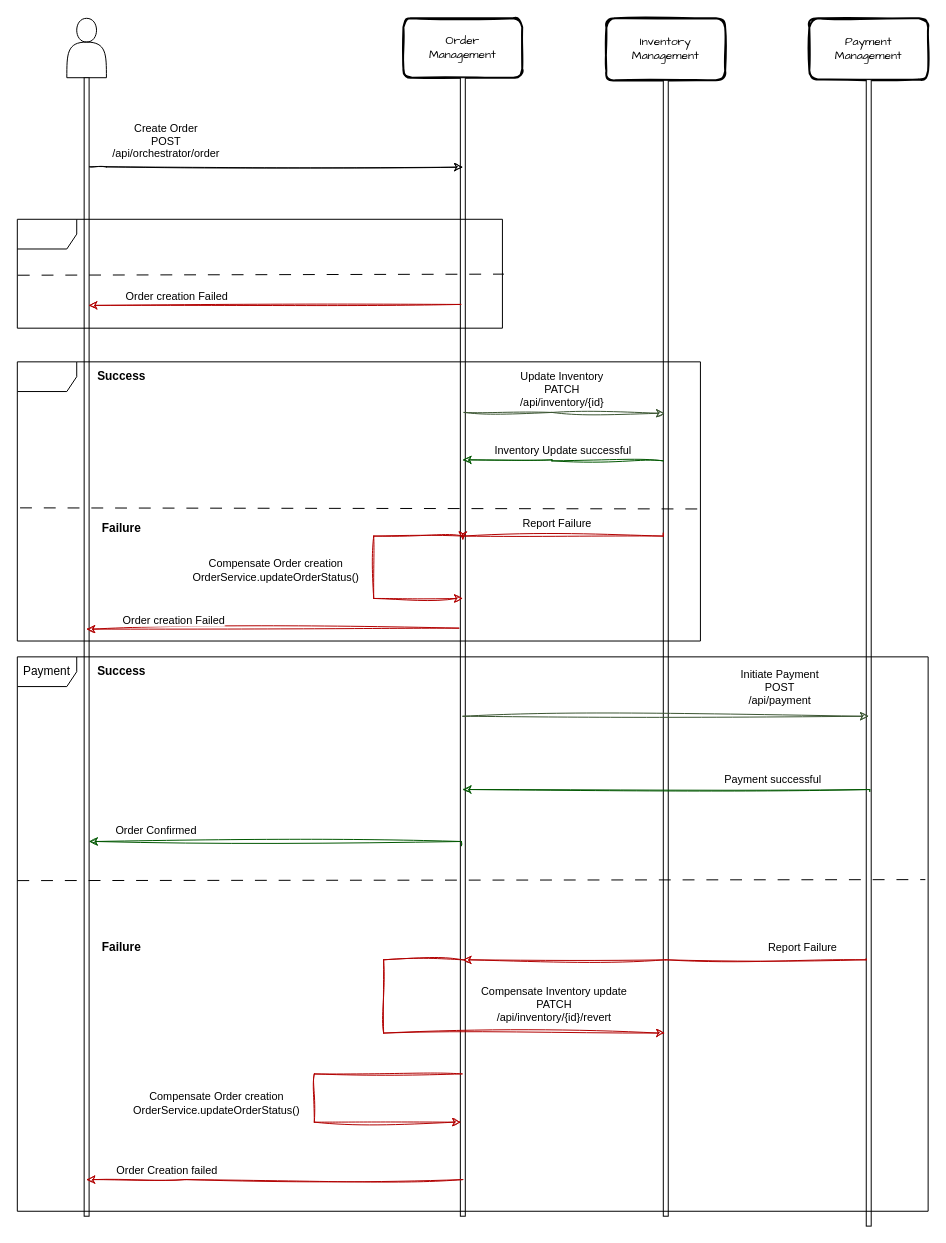
Some shapes in this 946 by 1243 pixel diagram are drawn without their labels. Here are the shapes that lost their labels. From the top down, the box of each, then its label:
(16, 218, 502, 328): Order
(16, 361, 700, 641): Inventory
